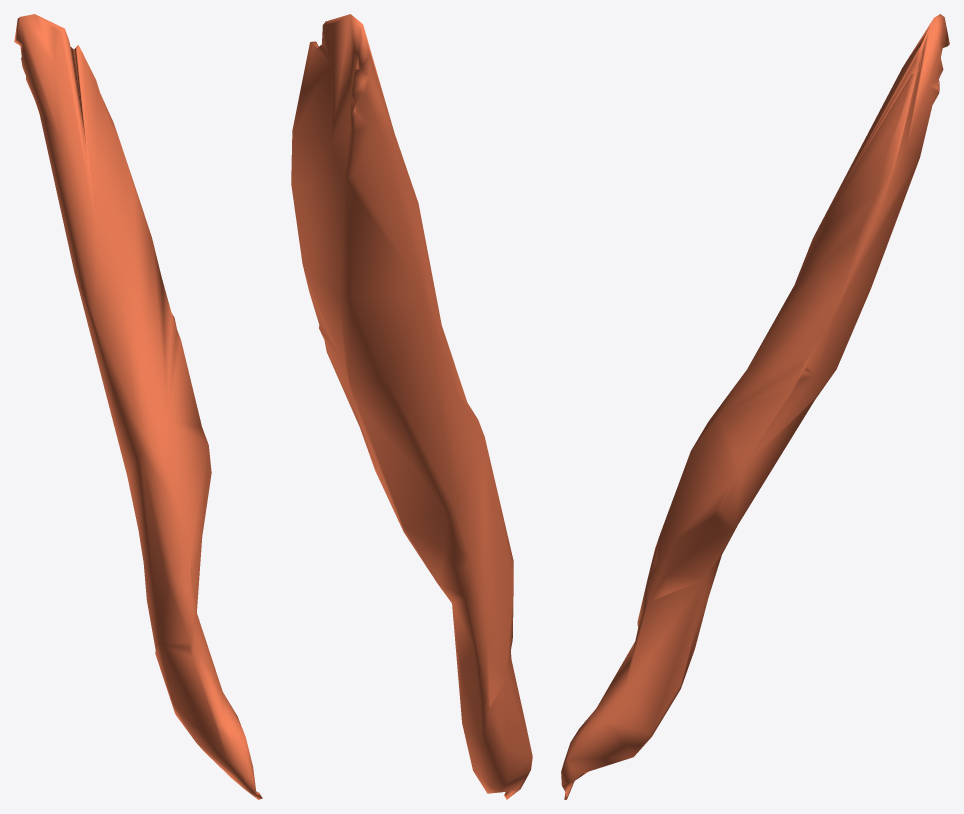
The model's file is Palmar_interossei_hand_right.glb.
3 views of the same model, side by side, from view 1: azimuth 30°, elevation 25°; view 2: azimuth 150°, elevation 25°; view 3: azimuth 270°, elevation 25° (orthographic). The views are drawn at different scales.
Visible parts, largest first — view 1: Palmar_interossei_muscles_of_hand.r_Generated_Mesh_From_X3D.; view 2: Palmar_interossei_muscles_of_hand.r_Generated_Mesh_From_X3D.; view 3: Palmar_interossei_muscles_of_hand.r_Generated_Mesh_From_X3D..
Boxes of the visible parts, x1=… form: Palmar_interossei_muscles_of_hand.r_Generated_Mesh_From_X3D.: x1=14, y1=14, x2=262, y2=799; Palmar_interossei_muscles_of_hand.r_Generated_Mesh_From_X3D.: x1=291, y1=14, x2=532, y2=799; Palmar_interossei_muscles_of_hand.r_Generated_Mesh_From_X3D.: x1=561, y1=14, x2=949, y2=799.
Size of the model in its own units: 0.0057 by 0.0386 by 0.0181.
